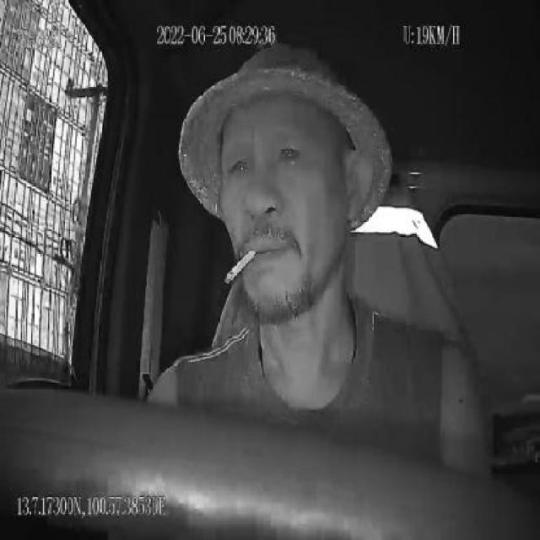smoking: (224, 246, 255, 285)
